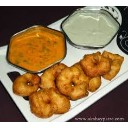vada: (30, 87, 70, 114), (58, 67, 89, 97), (40, 64, 68, 90), (12, 72, 40, 95), (100, 51, 123, 79), (82, 54, 110, 75)
